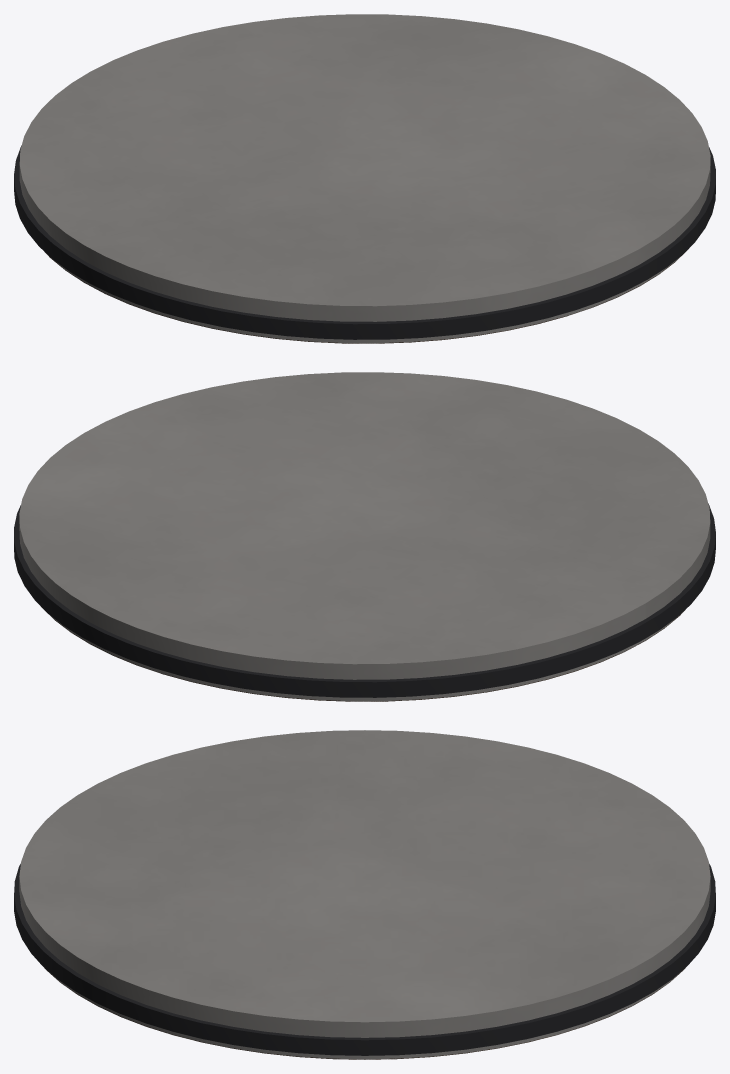
The model's file is stage05_heatshield_s.glb.
The picture shows the model from 3 angles, top to bottom: view 1: azimuth 30°, elevation 25°; view 2: azimuth 150°, elevation 25°; view 3: azimuth 270°, elevation 25°; orthographic projection.
Visible parts, largest first — view 1: carrier, shoulder_band, ablator; view 2: carrier, shoulder_band, ablator; view 3: carrier, shoulder_band, ablator.
Boxes of the visible parts, x1,y1,x2,y2 form: carrier: (19,14,710,343); shoulder_band: (14,145,715,339); ablator: (46,249,688,343); carrier: (19,372,710,701); shoulder_band: (14,503,715,697); ablator: (41,607,684,701); carrier: (19,730,710,1059); shoulder_band: (14,863,715,1055); ablator: (44,968,684,1059).
Bounding box in the file's own units: 1.27 × 0.2114 × 1.27.
Materials: 3 (2 with a texture image).
